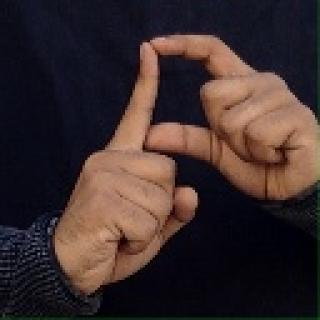D: (73, 27, 320, 296)
